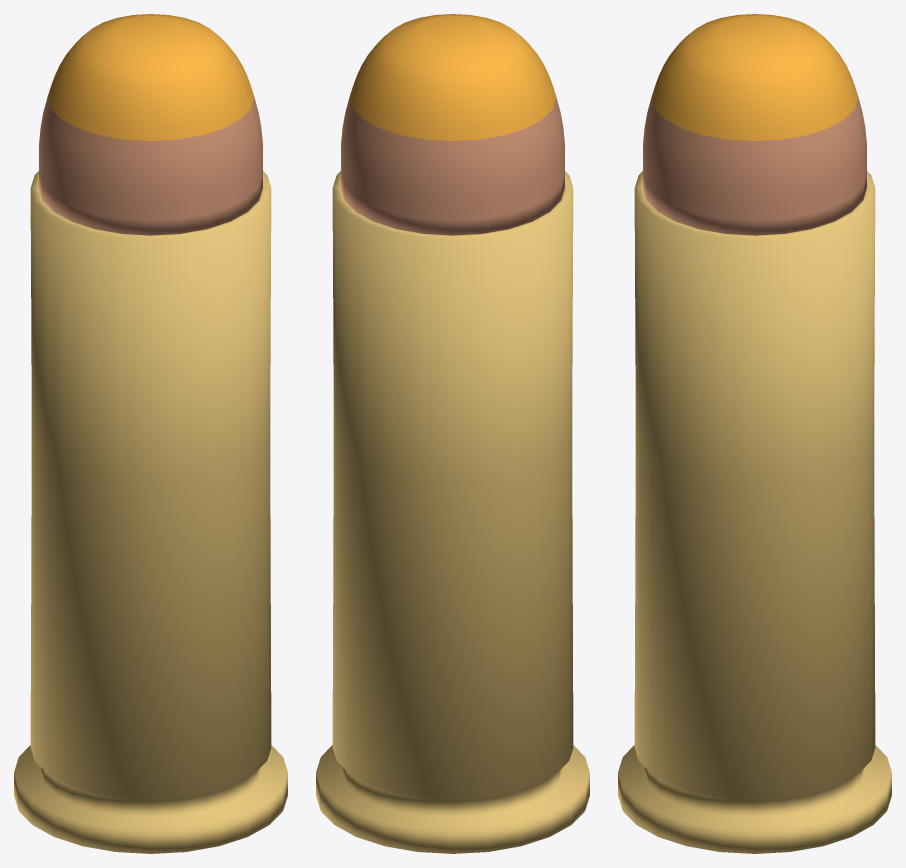
The model's file is 44mag_in.glb.
3 views of the same model, side by side, from view 1: azimuth 30°, elevation 25°; view 2: azimuth 150°, elevation 25°; view 3: azimuth 270°, elevation 25° (orthographic).
Visible parts, largest first — view 1: vaina, bala_cuerpo, punta; view 2: vaina, bala_cuerpo, punta; view 3: vaina, bala_cuerpo, punta.
Part boxes in pixels (left/top/right/bottom): vaina: left=14, top=171, right=287, bottom=853; bala_cuerpo: left=39, top=97, right=262, bottom=235; punta: left=47, top=14, right=254, bottom=140; vaina: left=316, top=171, right=589, bottom=853; bala_cuerpo: left=341, top=97, right=564, bottom=235; punta: left=349, top=14, right=556, bottom=140; vaina: left=618, top=171, right=891, bottom=853; bala_cuerpo: left=643, top=97, right=866, bottom=235; punta: left=651, top=14, right=858, bottom=140.
Bounding box in the file's own units: 0.0133 × 0.041 × 0.0133.
